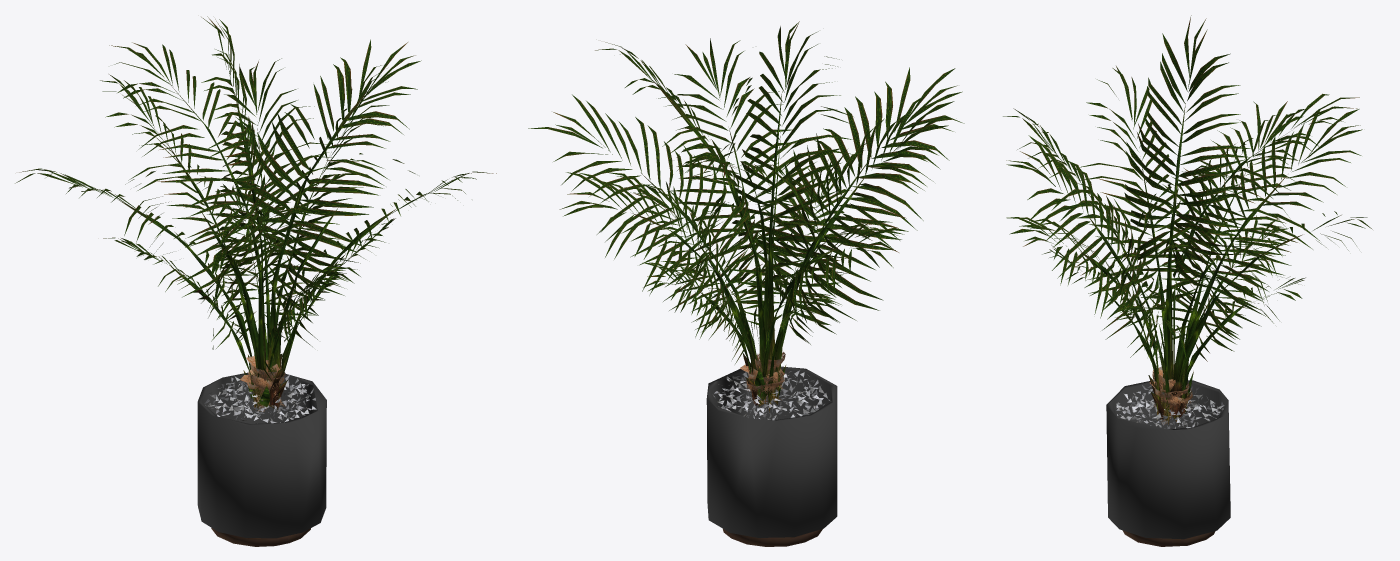
File: plant-marble-pot.glb
The picture shows the model from 3 angles, left to right: view 1: azimuth 30°, elevation 25°; view 2: azimuth 150°, elevation 25°; view 3: azimuth 270°, elevation 25°; orthographic projection. The views are drawn at different scales.
Visible parts, largest first — view 1: plant-marble-pot; view 2: plant-marble-pot; view 3: plant-marble-pot.
Boxes of the visible parts, box(x1,y1,x2,y2) form: plant-marble-pot: box(15, 16, 496, 546); plant-marble-pot: box(528, 21, 964, 546); plant-marble-pot: box(1003, 15, 1372, 546).
Bounding box in the file's own units: 0.4833 × 0.644 × 0.4622.
Materials: 8 (7 with a texture image).
